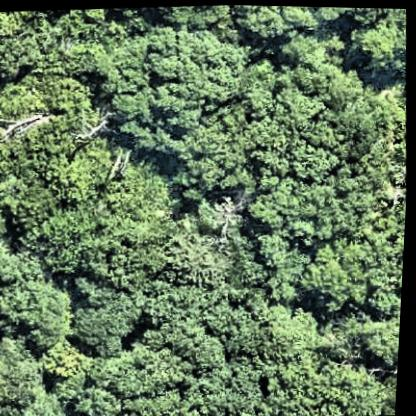tree-top: (248, 135, 371, 249), (149, 264, 278, 365), (151, 22, 263, 112), (22, 111, 116, 206), (266, 346, 392, 416), (89, 337, 199, 416), (266, 28, 360, 118), (116, 199, 201, 282), (97, 28, 164, 130), (304, 232, 391, 309), (172, 109, 251, 193), (44, 196, 125, 274), (0, 268, 73, 350), (69, 277, 148, 352), (0, 13, 64, 88), (262, 295, 341, 354), (0, 333, 55, 416), (345, 6, 408, 68), (234, 4, 329, 41), (356, 306, 404, 370), (2, 181, 52, 235), (38, 341, 95, 385)
